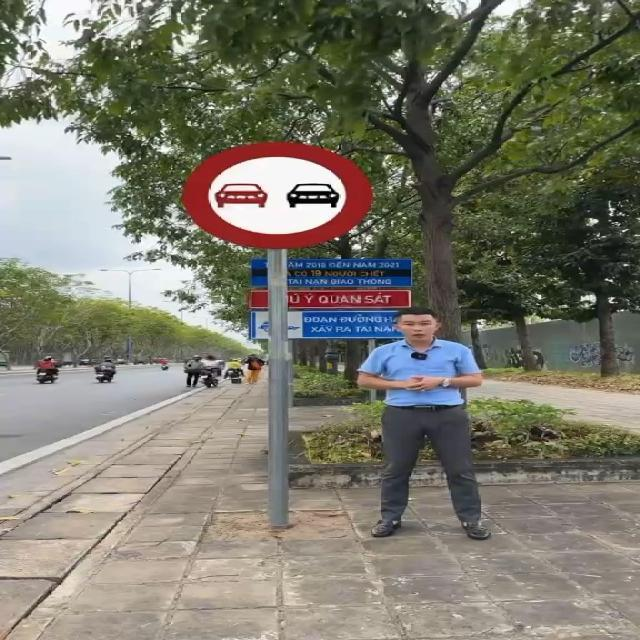125-cam-vuot: (178, 136, 376, 254)
